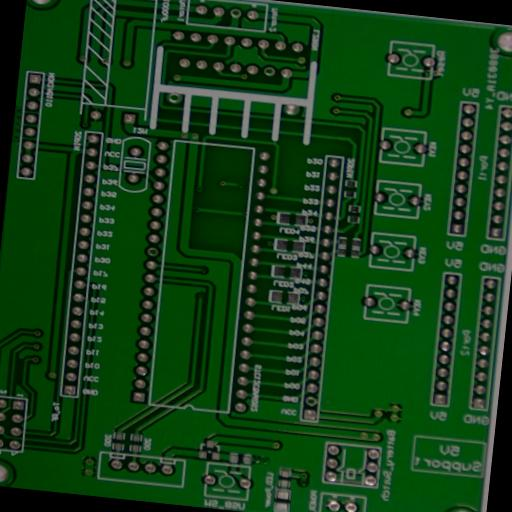missing_hole: (303, 394, 318, 408), (164, 93, 180, 104), (144, 244, 158, 256), (228, 7, 242, 18), (261, 66, 276, 76)
